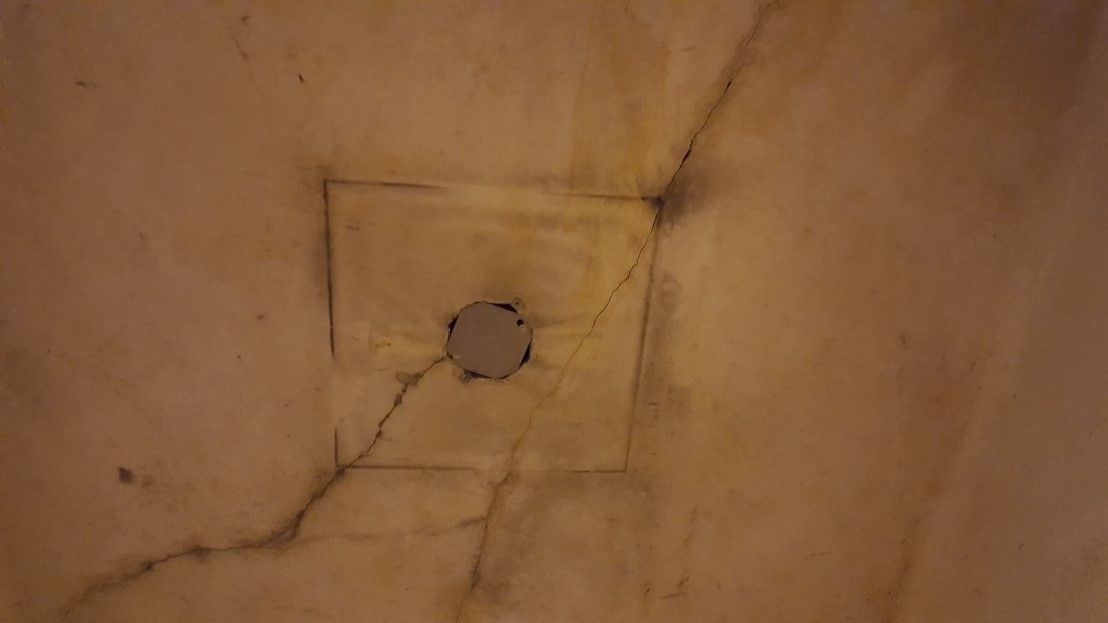Crack: (440, 0, 809, 623), (70, 349, 458, 615), (277, 512, 501, 542)
